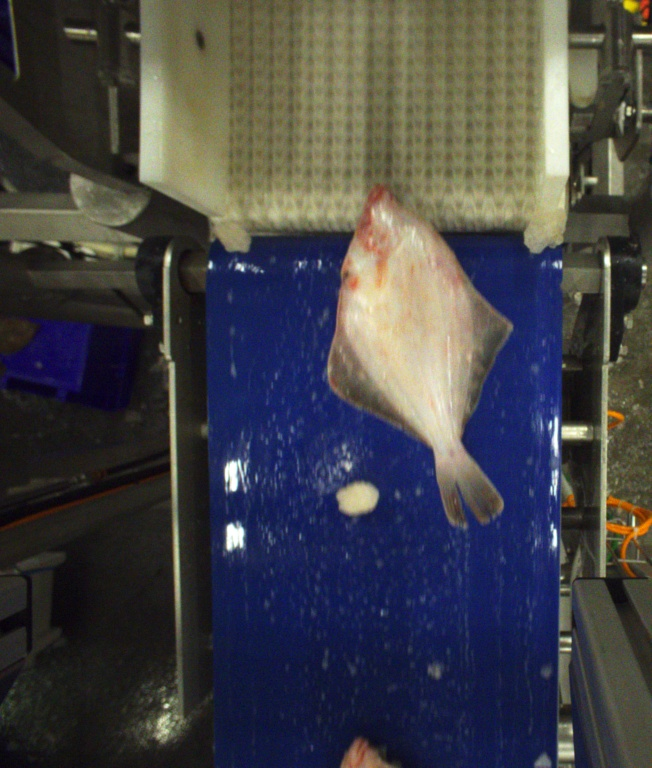PLE: (324, 184, 505, 529)
